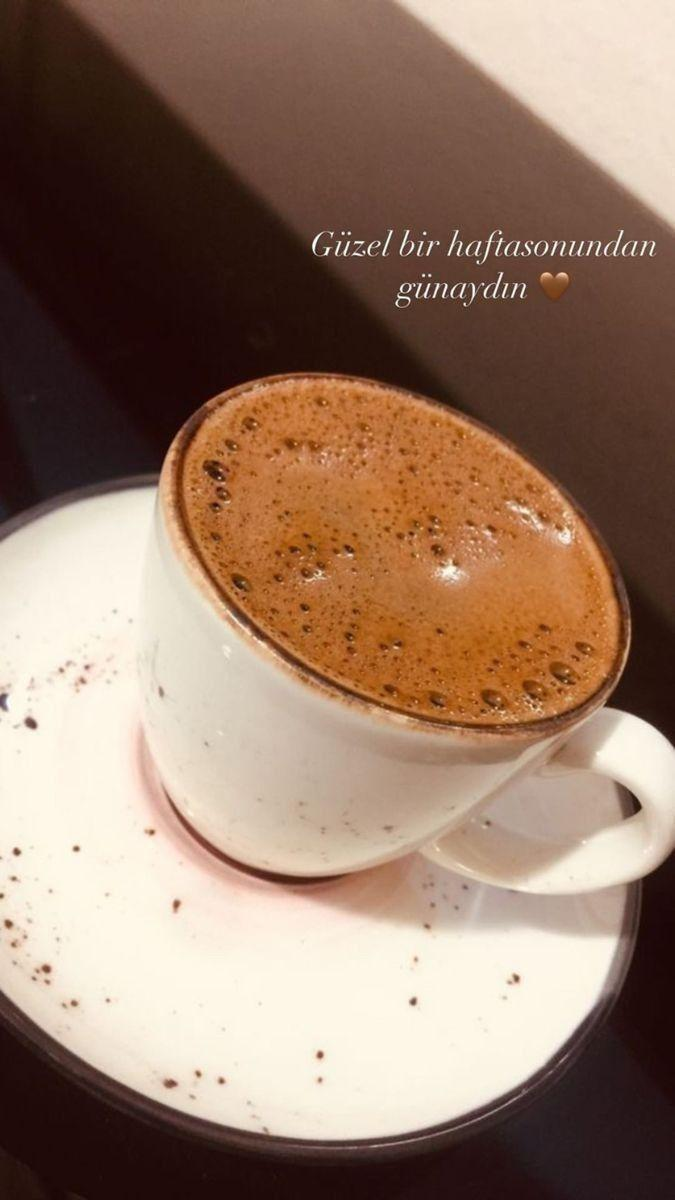cup-handle: (132, 368, 674, 901)
